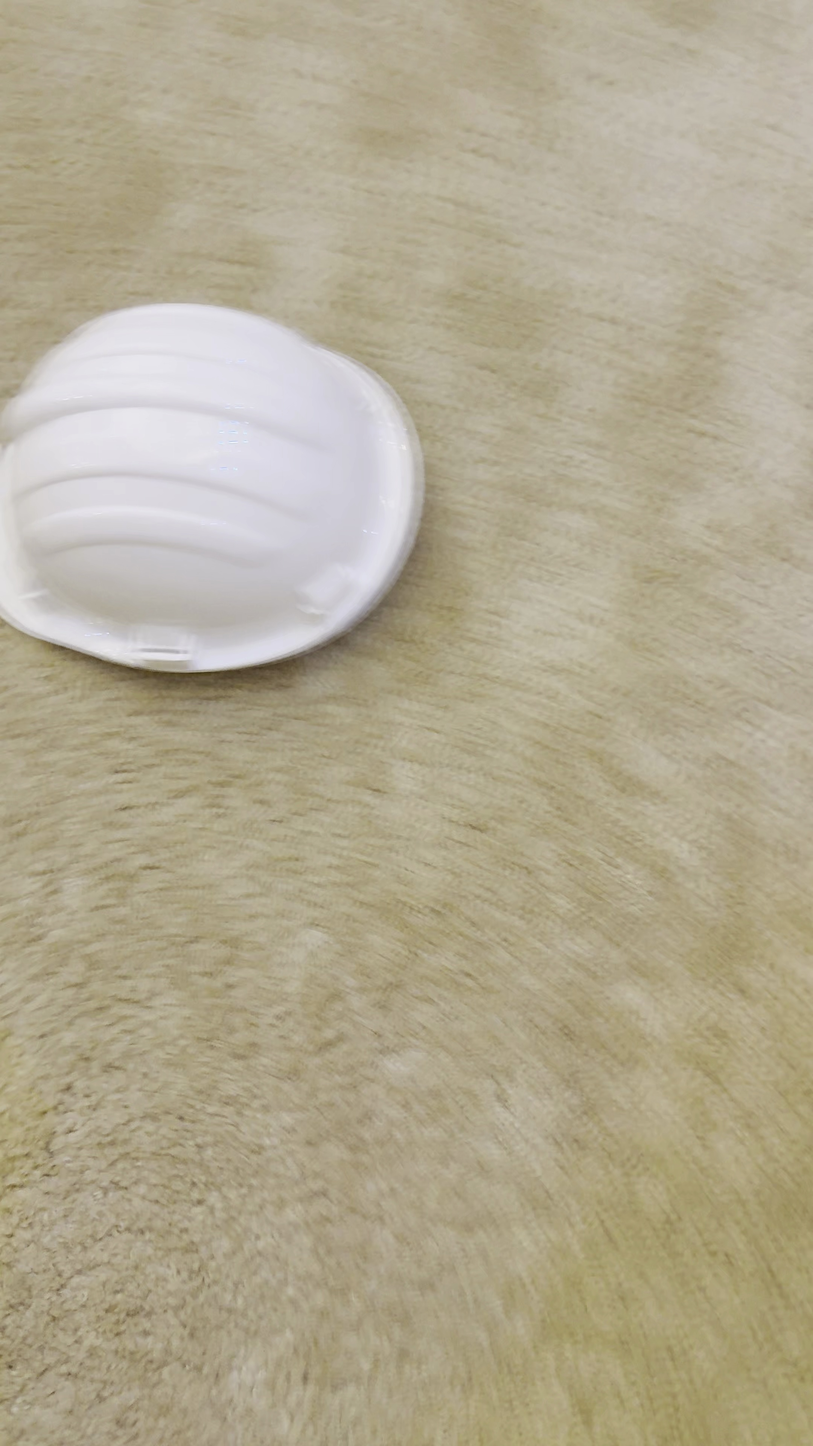safety_helmet: (1, 299, 426, 676)
